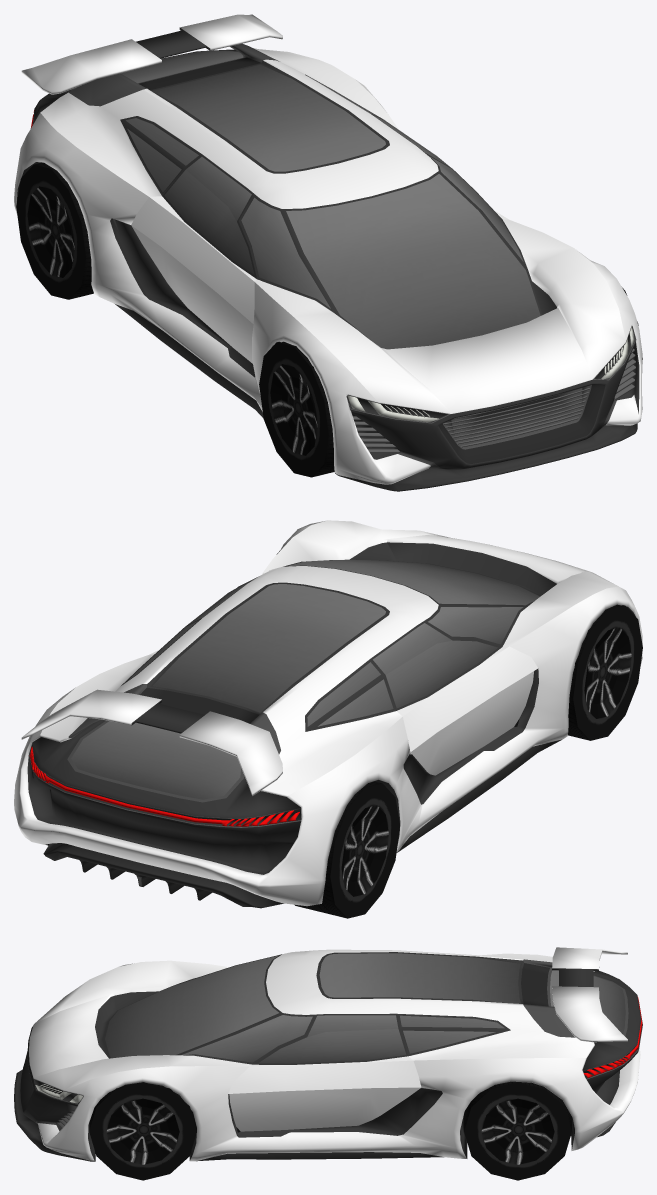
File: sport_car.fbx
3 renders of one model, top to bottom at view 1: azimuth 30°, elevation 25°; view 2: azimuth 150°, elevation 25°; view 3: azimuth 270°, elevation 25°, orthographic. The views are drawn at different scales.
Parts seen in each view (by area): view 1: sportcar_body, sportcar_door.L, suv_wheel_B.L.002, suv_wheel_B.L.003; view 2: sportcar_body, sportcar_door.L, suv_wheel_B.L.002, suv_wheel_B.L.003; view 3: sportcar_body, sportcar_door.R, suv_wheel_B.L, suv_wheel_B.L.001.
Boxes of the visible parts, bbox=[...] form: sportcar_body: bbox=[14, 14, 642, 491]; sportcar_door.L: bbox=[131, 154, 259, 363]; suv_wheel_B.L.002: bbox=[16, 162, 93, 299]; suv_wheel_B.L.003: bbox=[259, 341, 334, 477]; sportcar_body: bbox=[14, 520, 642, 908]; sportcar_door.L: bbox=[370, 621, 537, 775]; suv_wheel_B.L.002: bbox=[294, 781, 399, 918]; suv_wheel_B.L.003: bbox=[568, 604, 642, 740]; sportcar_body: bbox=[14, 947, 642, 1161]; sportcar_door.R: bbox=[228, 1013, 421, 1131]; suv_wheel_B.L: bbox=[464, 1081, 571, 1180]; suv_wheel_B.L.001: bbox=[89, 1082, 196, 1180].
Size of the model in its own units: 307 by 178 by 689.
3 materials, 2 textured.
